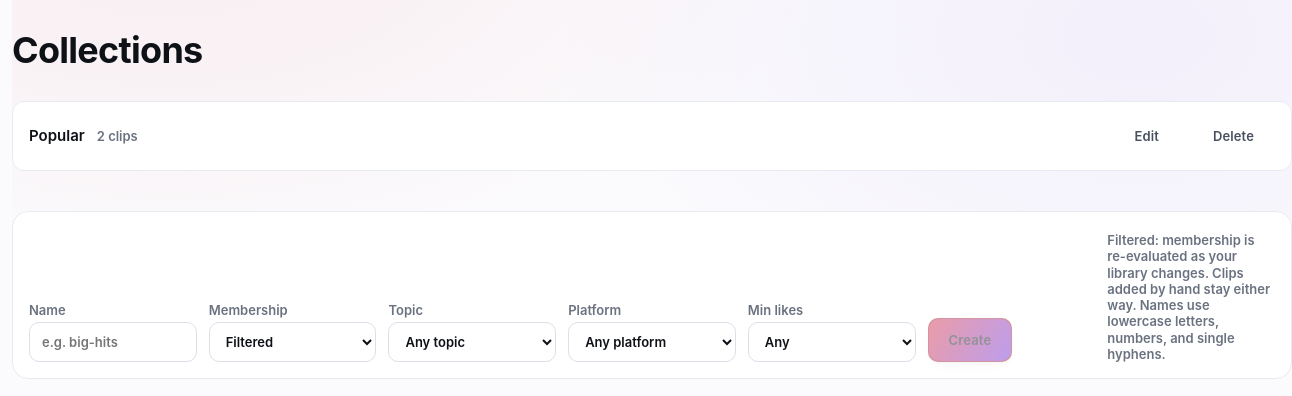
Test case: editing a filtered collection keeps its filter unless membership is changed
Click the button "Edit" at (1147, 136), box [1113,114,1180,158]
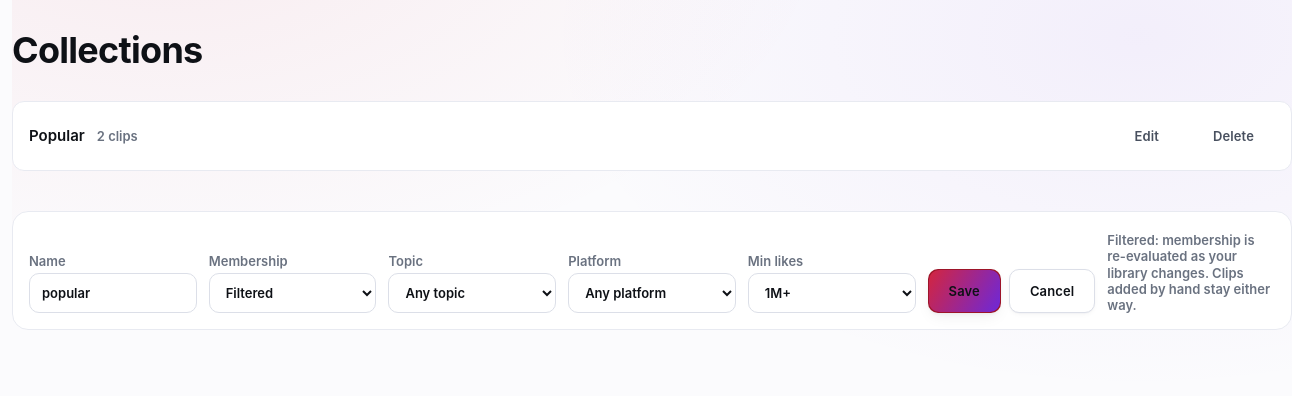
Expected: the dropdown labelled "Membership" shows "Filtered", [209,273,376,313]
Expected: the dropdown labelled "Min likes" shows "1M+", [748,273,916,313]
